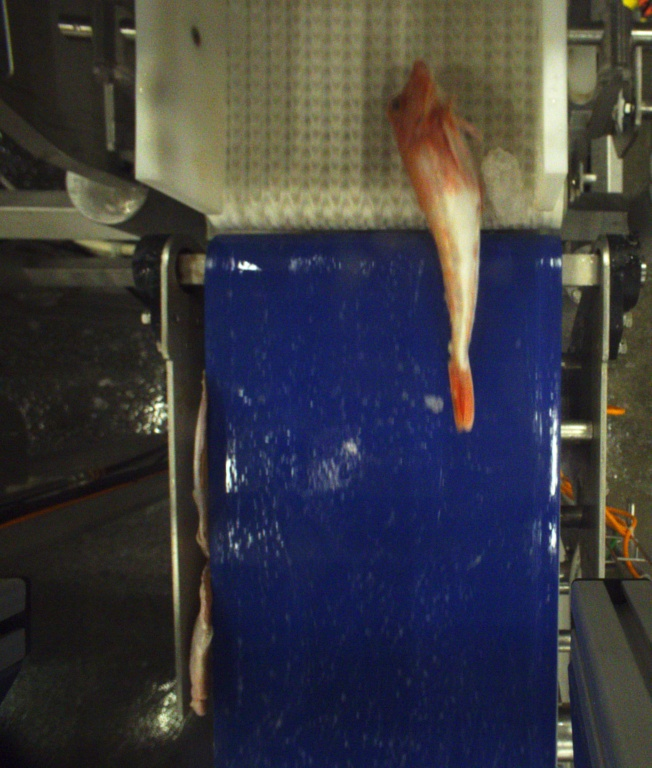GUU: (387, 60, 482, 433)
